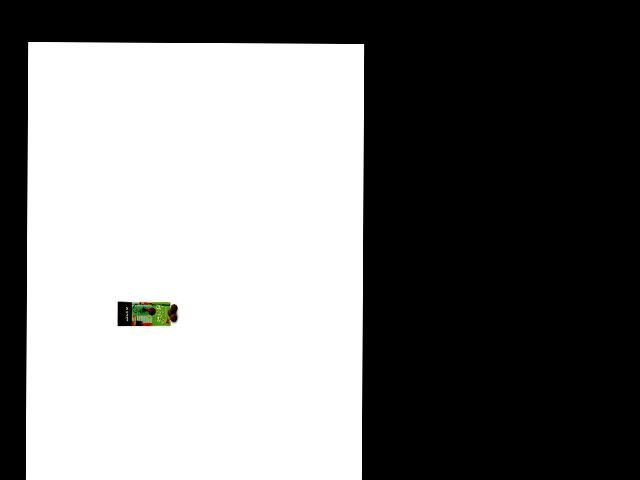chocolate: (115, 295, 171, 330)
